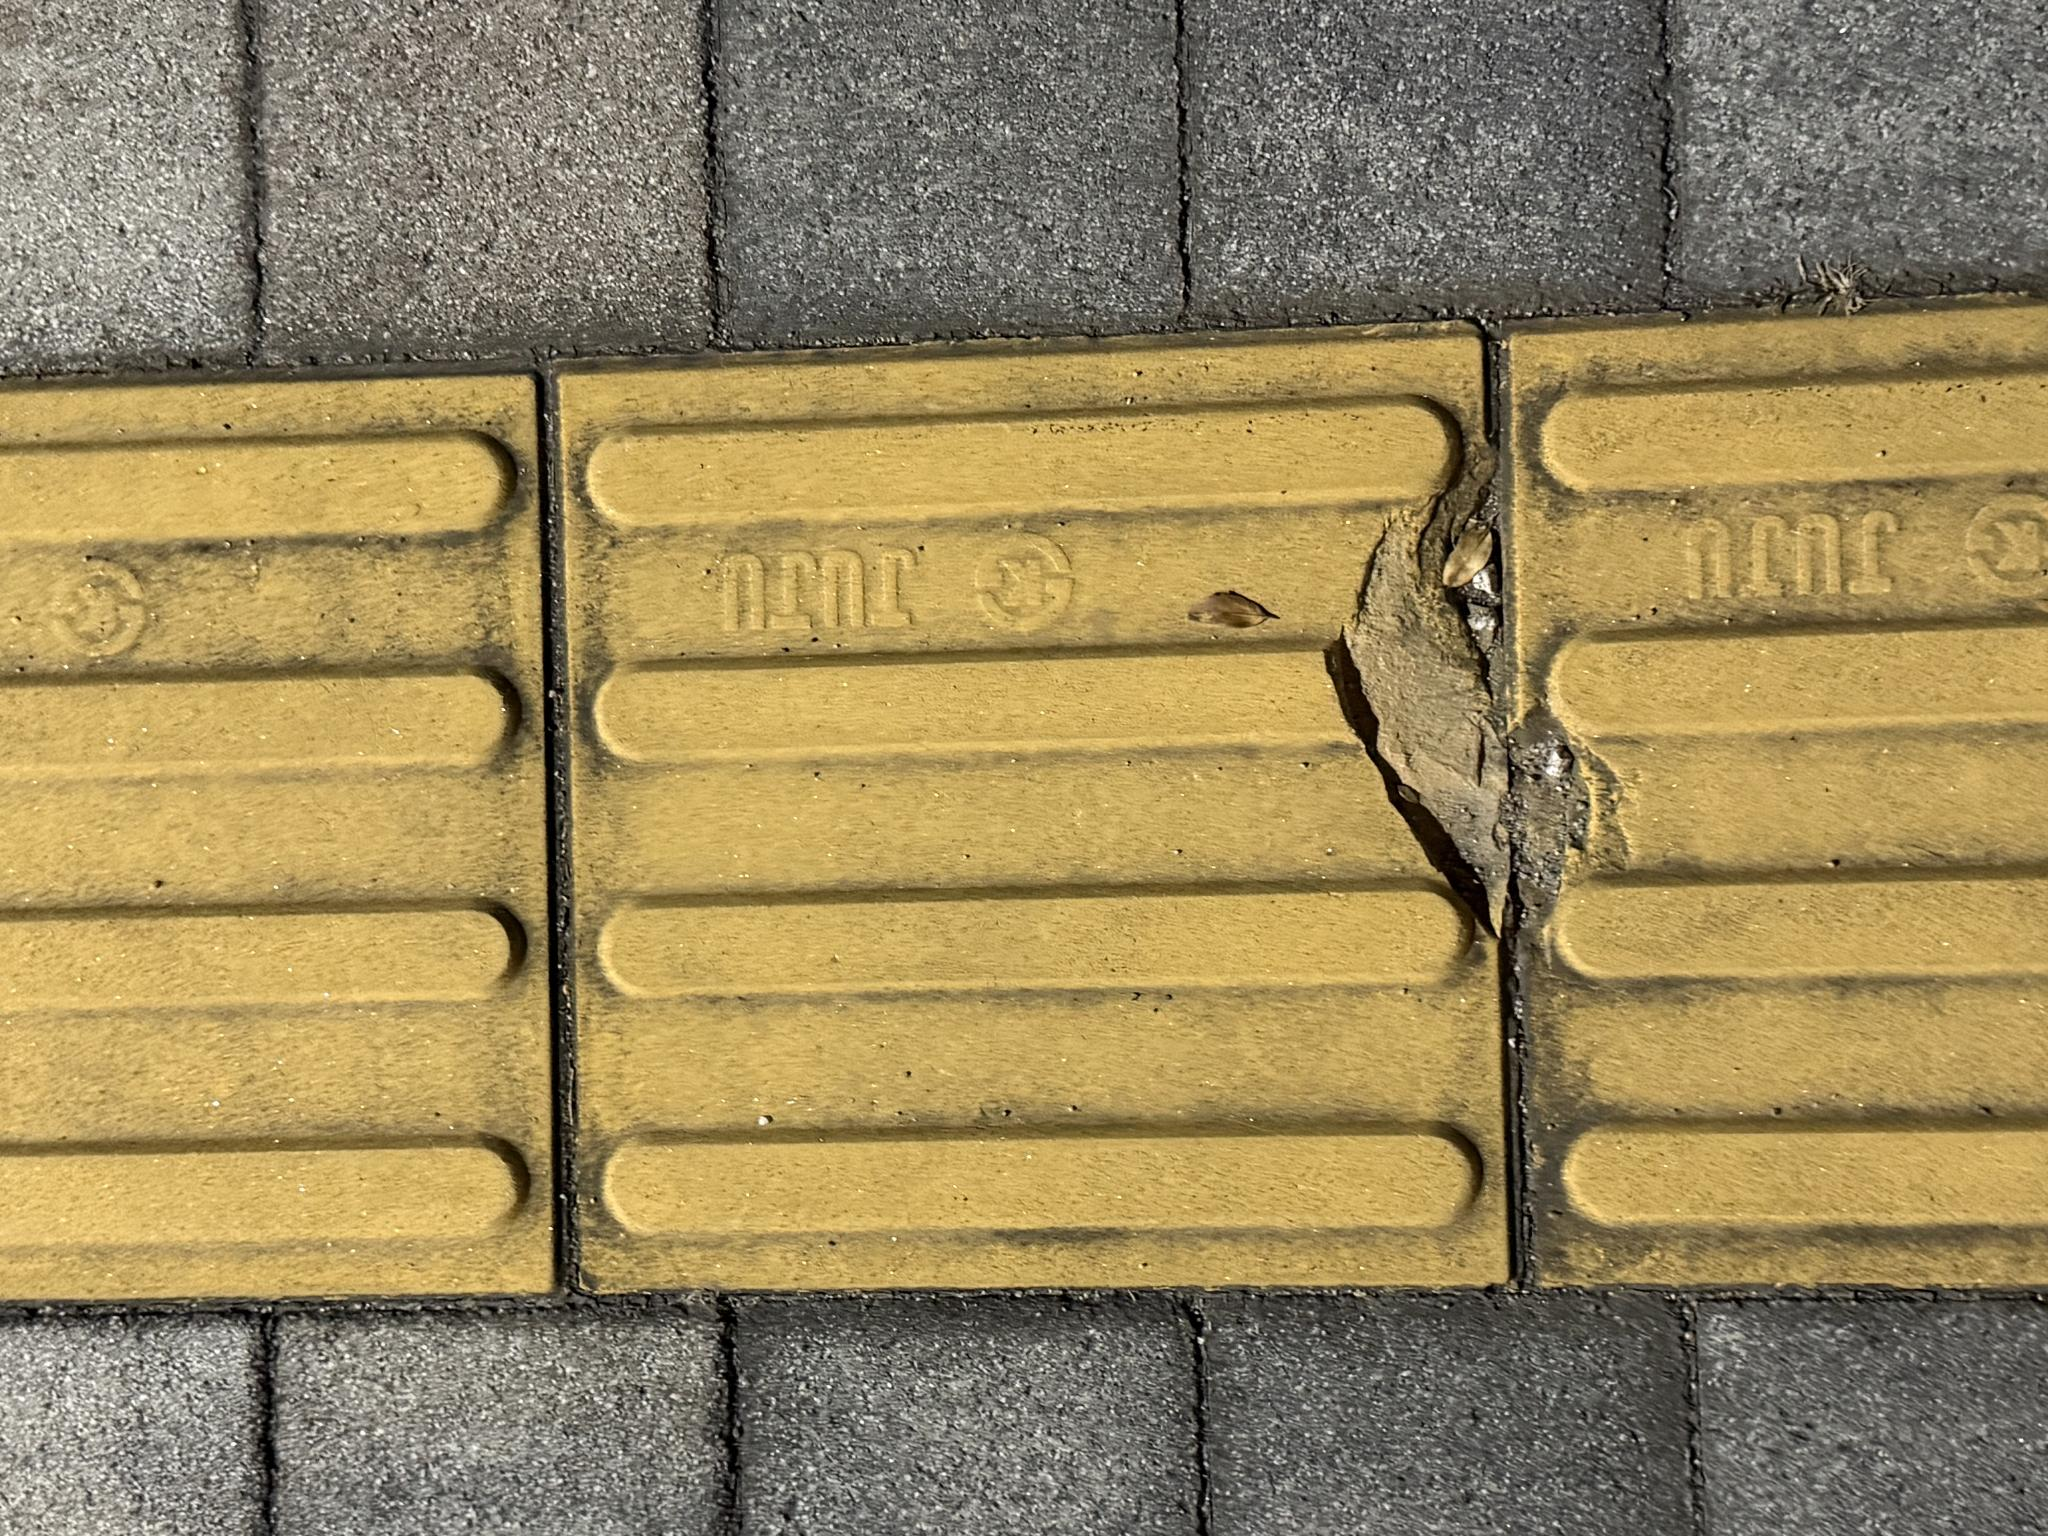Straight block broken: (252, 566, 1193, 1501)
